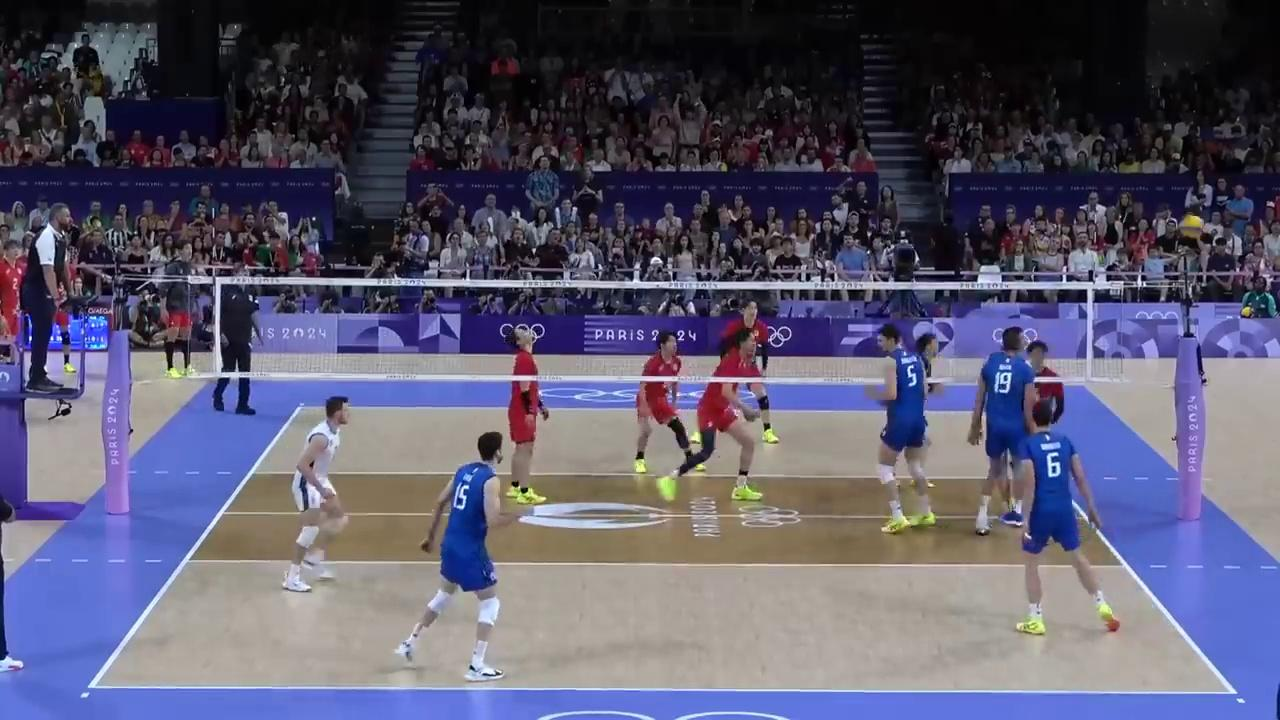ball: (1179, 216, 1202, 238)
